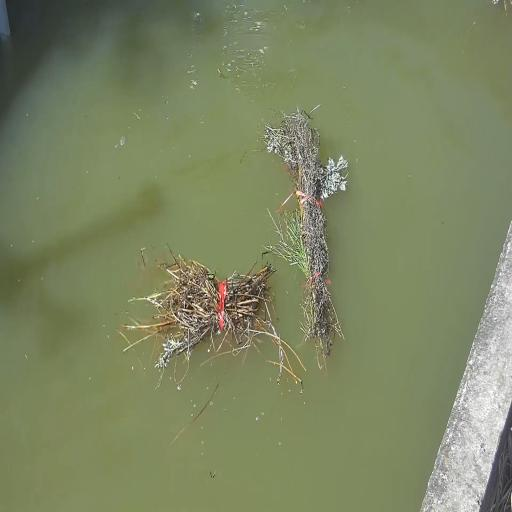twig: (264, 122, 346, 358), (155, 253, 278, 388), (490, 0, 512, 22)
